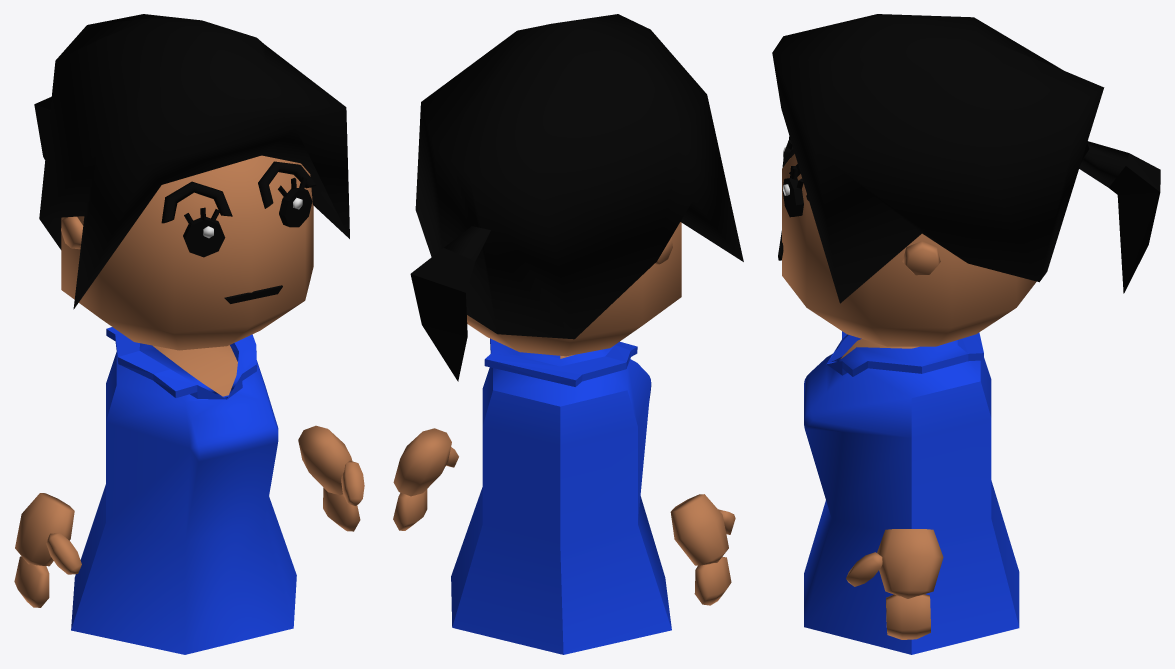
Rendered from mujer_6.fbx.
The picture shows the model from 3 angles, left to right: view 1: azimuth 30°, elevation 25°; view 2: azimuth 150°, elevation 25°; view 3: azimuth 270°, elevation 25°; orthographic projection. The views are drawn at different scales.
Parts seen in each view (by area): view 1: Torso001, Pelo001, Cabeza001, Palma Izquerda002, Palma Izquerda003, Cuerpo001, Ojo Derecho001, Dedos Izquierdos002, Ojo Izquierdo001, Ceja Derecha001, Dedos Izquierdos003, DedoPulga Izquierdo002 (+3 smaller); view 2: Pelo001, Torso001, Cabeza001, Palma Izquerda002, Palma Izquerda003, Dedos Izquierdos002, Dedos Izquierdos003; view 3: Pelo001, Torso001, Cabeza001, Palma Izquerda003, Dedos Izquierdos003, Oreja Derecha003, DedoPulga Izquierdo003, Ojo Izquierdo001.
Part boxes in pixels (x1,y1,x2,y2): Torso001: (71, 327, 296, 654); Pelo001: (34, 14, 349, 309); Cabeza001: (61, 155, 313, 350); Palma Izquerda002: (15, 493, 74, 566); Palma Izquerda003: (298, 425, 352, 495); Cuerpo001: (153, 345, 237, 396); Ojo Derecho001: (183, 207, 225, 257); Dedos Izquierdos002: (14, 556, 49, 607); Ojo Izquierdo001: (278, 177, 312, 227); Ceja Derecha001: (161, 181, 232, 223); Dedos Izquierdos003: (323, 488, 360, 531); DedoPulga Izquierdo002: (46, 533, 81, 574); Pelo001: (410, 14, 743, 381); Torso001: (451, 338, 671, 654); Cabeza001: (467, 222, 681, 356); Palma Izquerda002: (670, 494, 728, 565); Palma Izquerda003: (393, 428, 451, 496); Dedos Izquierdos002: (694, 556, 731, 605); Dedos Izquierdos003: (393, 489, 427, 530); Pelo001: (772, 14, 1160, 303); Torso001: (804, 331, 1019, 654); Cabeza001: (782, 154, 1036, 346); Palma Izquerda003: (877, 529, 943, 598); Dedos Izquierdos003: (886, 594, 930, 639); Oreja Derecha003: (902, 241, 940, 275); DedoPulga Izquierdo003: (846, 552, 882, 586); Ojo Izquierdo001: (782, 166, 803, 217).
Bounding box in the file's own units: 1.41 × 2.35 × 1.42.
